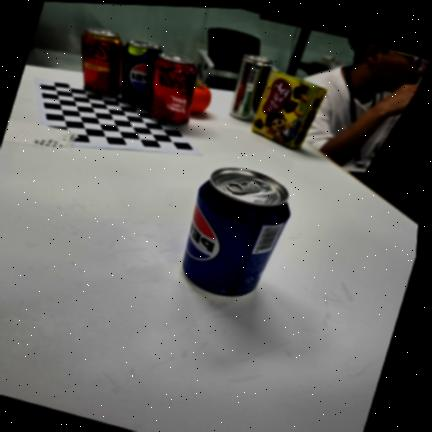can_coke_decaf: (82, 28, 123, 96)
can_coke_zero: (150, 53, 197, 126)
can_pepsi: (183, 168, 290, 296)
can_pepsi_zero: (121, 40, 162, 108)
